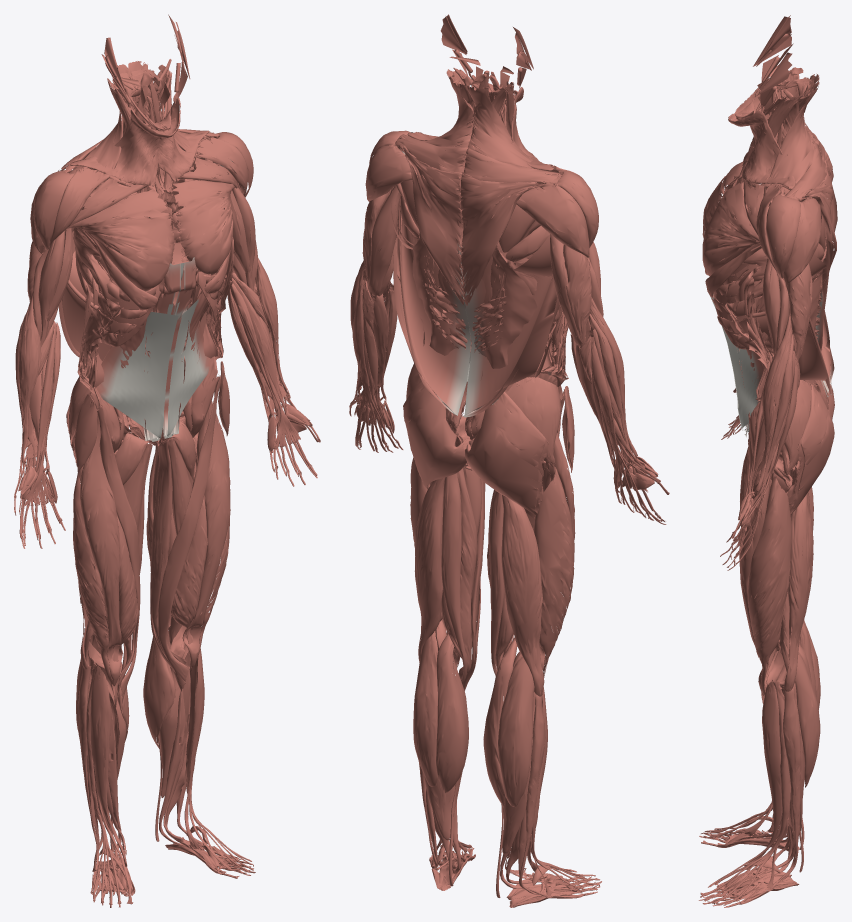
The model's file is muscles.glb.
The picture shows the model from 3 angles, left to right: view 1: azimuth 30°, elevation 25°; view 2: azimuth 150°, elevation 25°; view 3: azimuth 270°, elevation 25°; orthographic projection. The views are drawn at different scales.
Parts seen in each view (by area): view 1: grand-pectoral, oblique-externe, droit-femoral, sartorius, deltoide, peaucier-du-cou, tibial-anterieur, vaste-medial, biceps-brachial, vaste-lateral, gracile, brachio-radial (+36 smaller); view 2: grand-dorsal, trapeze, gastrocnemien, grand-fessier, biceps-femoral, deltoide, triceps-brachial, vaste-lateral, semi-tendineux, semi-membraneux, extenseur-des-doigts, moyen-fessier (+24 smaller); view 3: vaste-lateral, grand-pectoral, deltoide, trapeze, biceps-femoral, oblique-externe, grand-dorsal, grand-fessier, gastrocnemien, peaucier-du-cou, tibial-anterieur, extenseur-long-des-orteils (+34 smaller).
Boxes of the visible parts, bbox=[...] form: grand-pectoral: bbox=[66, 157, 238, 310]; oblique-externe: bbox=[77, 221, 233, 438]; droit-femoral: bbox=[80, 400, 230, 686]; sartorius: bbox=[96, 375, 220, 703]; deltoide: bbox=[30, 132, 253, 254]; peaucier-du-cou: bbox=[70, 98, 209, 186]; tibial-anterieur: bbox=[90, 641, 204, 866]; vaste-medial: bbox=[112, 453, 207, 661]; biceps-brachial: bbox=[38, 162, 255, 345]; vaste-lateral: bbox=[73, 461, 229, 684]; gracile: bbox=[118, 438, 186, 697]; brachio-radial: bbox=[19, 258, 290, 464]; grand-dorsal: bbox=[391, 151, 561, 417]; trapeze: bbox=[395, 80, 562, 307]; gastrocnemien: bbox=[413, 631, 534, 807]; grand-fessier: bbox=[403, 382, 548, 515]; biceps-femoral: bbox=[414, 477, 544, 696]; deltoide: bbox=[365, 130, 598, 257]; triceps-brachial: bbox=[362, 185, 591, 348]; vaste-lateral: bbox=[410, 457, 574, 677]; semi-tendineux: bbox=[441, 473, 504, 684]; semi-membraneux: bbox=[441, 468, 513, 679]; extenseur-des-doigts: bbox=[352, 280, 660, 521]; moyen-fessier: bbox=[406, 363, 560, 464]; vaste-lateral: bbox=[747, 471, 791, 694]; grand-pectoral: bbox=[702, 161, 775, 298]; deltoide: bbox=[756, 183, 821, 286]; trapeze: bbox=[769, 73, 837, 264]; biceps-femoral: bbox=[779, 487, 813, 691]; oblique-externe: bbox=[710, 250, 770, 430]; grand-dorsal: bbox=[746, 224, 834, 396]; grand-fessier: bbox=[787, 384, 834, 514]; gastrocnemien: bbox=[779, 620, 820, 787]; peaucier-du-cou: bbox=[728, 87, 795, 189]; tibial-anterieur: bbox=[743, 681, 782, 869]; extenseur-long-des-orteils: bbox=[700, 679, 790, 905].
Size of the model in its own units: 0.6362 by 1.67 by 0.2511.
